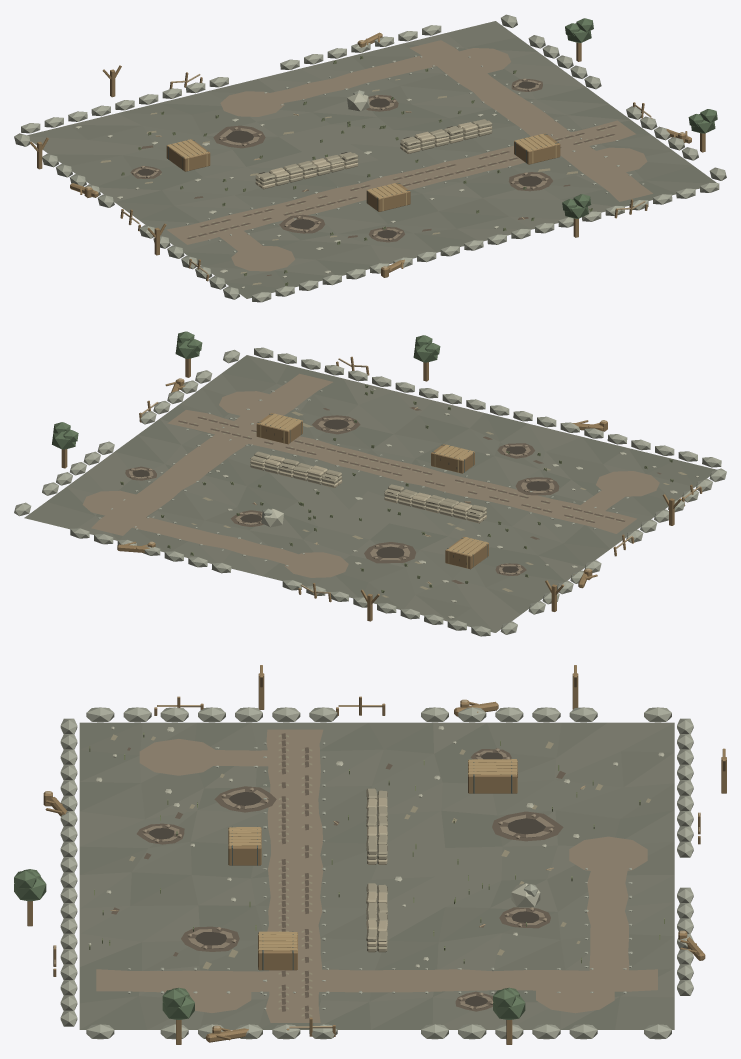
Rendered from outpost_map.glb.
3 views of the same model, one above another, from view 1: azimuth 30°, elevation 25°; view 2: azimuth 150°, elevation 25°; view 3: azimuth 270°, elevation 25° (orthographic). The views are drawn at different scales.
Parts seen in each view (by area): view 1: VIS_Batch_Ground_0_Ground_1_Ground_2_Ground_3_Ground_4, VIS_Batch_Packed_dirt, VIS_Batch_Grey_stone, VIS_Batch_Crate_wood, VIS_Batch_Wet_ruts, VIS_Batch_Sandbags, VIS_Batch_Deep_foliage, VIS_Batch_Wood_braces, VIS_Batch_Scorched_earth, VIS_Batch_Sandbags_light, VIS_Batch_Path_edge, VIS_Batch_Stone_light (+1 smaller); view 2: VIS_Batch_Ground_0_Ground_1_Ground_2_Ground_3_Ground_4, VIS_Batch_Packed_dirt, VIS_Batch_Grey_stone, VIS_Batch_Crate_wood, VIS_Batch_Wet_ruts, VIS_Batch_Sandbags, VIS_Batch_Deep_foliage, VIS_Batch_Wood_braces, VIS_Batch_Scorched_earth, VIS_Batch_Sandbags_light, VIS_Batch_Path_edge, VIS_Batch_Stone_light (+1 smaller); view 3: VIS_Batch_Ground_0_Ground_1_Ground_2_Ground_3_Ground_4, VIS_Batch_Packed_dirt, VIS_Batch_Grey_stone, VIS_Batch_Crate_wood, VIS_Batch_Wet_ruts, VIS_Batch_Deep_foliage, VIS_Batch_Scorched_earth, VIS_Batch_Wood_braces, VIS_Batch_Sandbags, VIS_Batch_Path_edge, VIS_Batch_Stone_light, VIS_Batch_Sandbags_light.
Boxes of the visible parts, x1=… form: VIS_Batch_Ground_0_Ground_1_Ground_2_Ground_3_Ground_4: x1=27, y1=21, x2=716, y2=298; VIS_Batch_Packed_dirt: x1=132, y1=40, x2=652, y2=271; VIS_Batch_Grey_stone: x1=14, y1=14, x2=726, y2=302; VIS_Batch_Crate_wood: x1=30, y1=32, x2=705, y2=281; VIS_Batch_Wet_ruts: x1=130, y1=79, x2=616, y2=275; VIS_Batch_Sandbags: x1=255, y1=119, x2=492, y2=185; VIS_Batch_Deep_foliage: x1=562, y1=18, x2=717, y2=218; VIS_Batch_Wood_braces: x1=167, y1=134, x2=556, y2=210; VIS_Batch_Scorched_earth: x1=137, y1=81, x2=547, y2=240; VIS_Batch_Sandbags_light: x1=255, y1=122, x2=492, y2=189; VIS_Batch_Path_edge: x1=100, y1=79, x2=614, y2=285; VIS_Batch_Stone_light: x1=75, y1=93, x2=498, y2=288; VIS_Batch_Ground_0_Ground_1_Ground_2_Ground_3_Ground_4: x1=24, y1=355, x2=716, y2=632; VIS_Batch_Packed_dirt: x1=82, y1=373, x2=659, y2=577; VIS_Batch_Grey_stone: x1=14, y1=347, x2=726, y2=636; VIS_Batch_Crate_wood: x1=61, y1=356, x2=702, y2=621; VIS_Batch_Wet_ruts: x1=125, y1=407, x2=661, y2=583; VIS_Batch_Sandbags: x1=250, y1=451, x2=486, y2=519; VIS_Batch_Deep_foliage: x1=52, y1=331, x2=440, y2=449; VIS_Batch_Wood_braces: x1=260, y1=413, x2=488, y2=568; VIS_Batch_Scorched_earth: x1=129, y1=419, x2=549, y2=574; VIS_Batch_Sandbags_light: x1=250, y1=455, x2=486, y2=523; VIS_Batch_Path_edge: x1=179, y1=411, x2=686, y2=597; VIS_Batch_Stone_light: x1=215, y1=388, x2=698, y2=618; VIS_Batch_Ground_0_Ground_1_Ground_2_Ground_3_Ground_4: x1=79, y1=722, x2=674, y2=1029; VIS_Batch_Packed_dirt: x1=96, y1=729, x2=657, y2=1022; VIS_Batch_Grey_stone: x1=60, y1=707, x2=693, y2=1039; VIS_Batch_Crate_wood: x1=27, y1=665, x2=726, y2=1044; VIS_Batch_Wet_ruts: x1=111, y1=733, x2=565, y2=1018; VIS_Batch_Deep_foliage: x1=14, y1=869, x2=525, y2=1019; VIS_Batch_Scorched_earth: x1=143, y1=752, x2=553, y2=1009; VIS_Batch_Wood_braces: x1=228, y1=759, x2=517, y2=967; VIS_Batch_Sandbags: x1=366, y1=788, x2=387, y2=952; VIS_Batch_Path_edge: x1=110, y1=734, x2=650, y2=1016; VIS_Batch_Stone_light: x1=88, y1=726, x2=664, y2=967; VIS_Batch_Sandbags_light: x1=366, y1=798, x2=387, y2=946.
Bounding box in the file's own units: 50.02 × 4.14 × 43.16.
